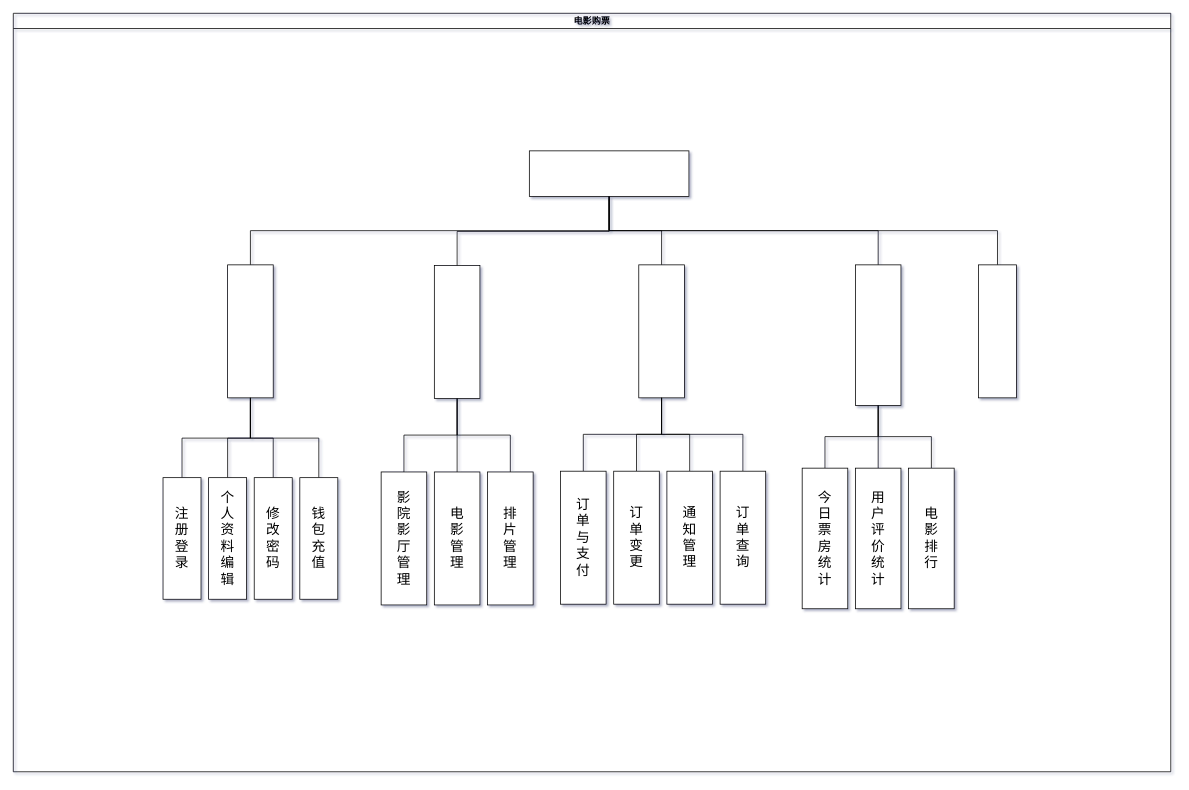
This 1189x790 diagram has some shape labels left out. The centre of each missing label's shape, as x and y in pixels:
"内 容 管 理 模 块" belongs at (457,332).
"数 据 统 计 报 表 模 块" belongs at (878,334).
"用 户 管 理 模 块" belongs at (250,331).
"电影票购票系统" belongs at (609,173).
"订 单 管 理 模 块" belongs at (661,331).
"评 价 管 理 模 块" belongs at (997,331).
